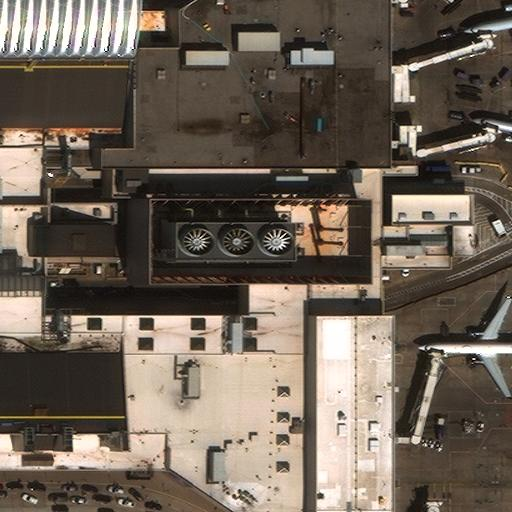Medium Civil Transport: (417, 294, 512, 397), (463, 0, 512, 49)
